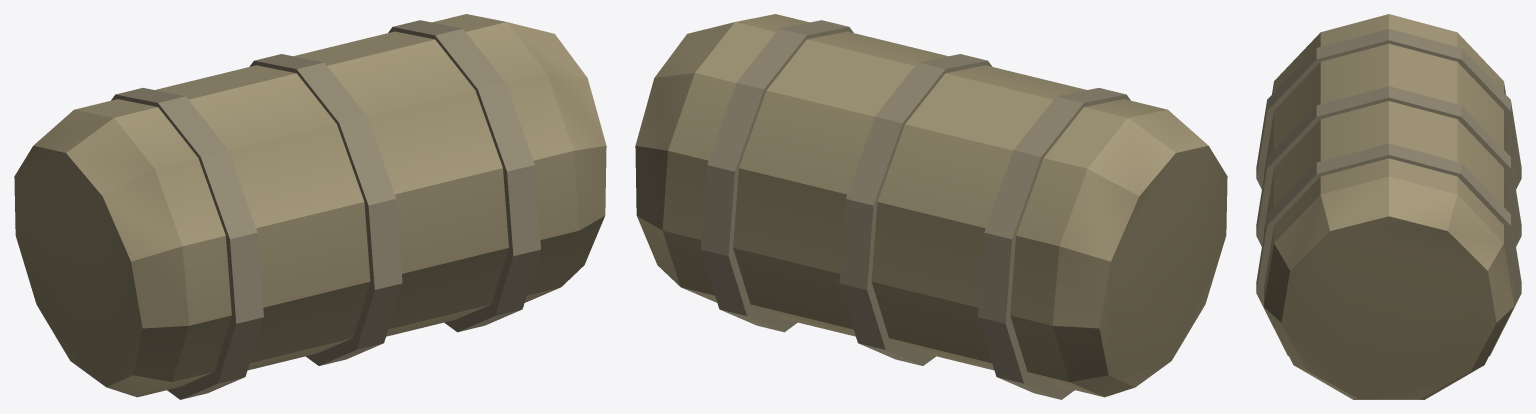
Rendered from prop_tawara.glb.
The picture shows the model from 3 angles, left to right: view 1: azimuth 30°, elevation 25°; view 2: azimuth 150°, elevation 25°; view 3: azimuth 270°, elevation 25°; orthographic projection. The views are drawn at different scales.
Visible parts, largest first — view 1: prop_tawara; view 2: prop_tawara; view 3: prop_tawara.
Part boxes in pixels (x1,y1,x2,y2): prop_tawara: (14, 14, 606, 399); prop_tawara: (635, 14, 1227, 399); prop_tawara: (1256, 14, 1521, 399).
Bounding box in the file's own units: 0.776 × 0.4258 × 0.4302.
